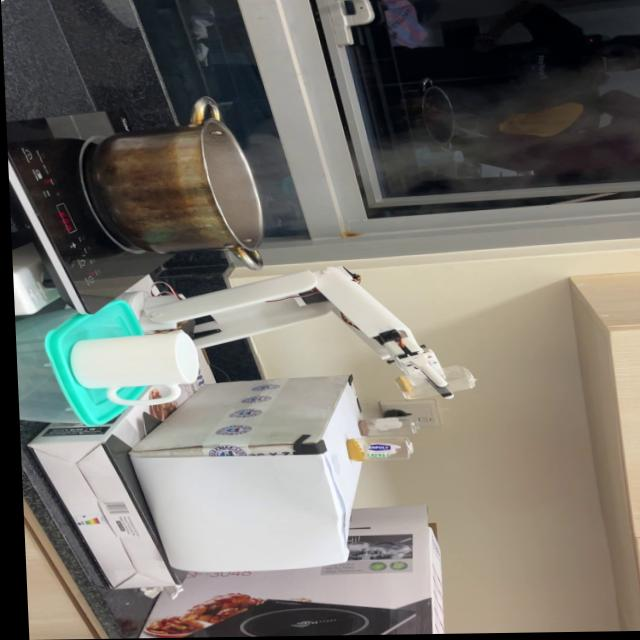cooking_pot: (93, 91, 270, 277)
curry_powder: (340, 439, 363, 468)
garlic_powder: (390, 378, 414, 399)
maggie_open: (355, 422, 365, 440)
